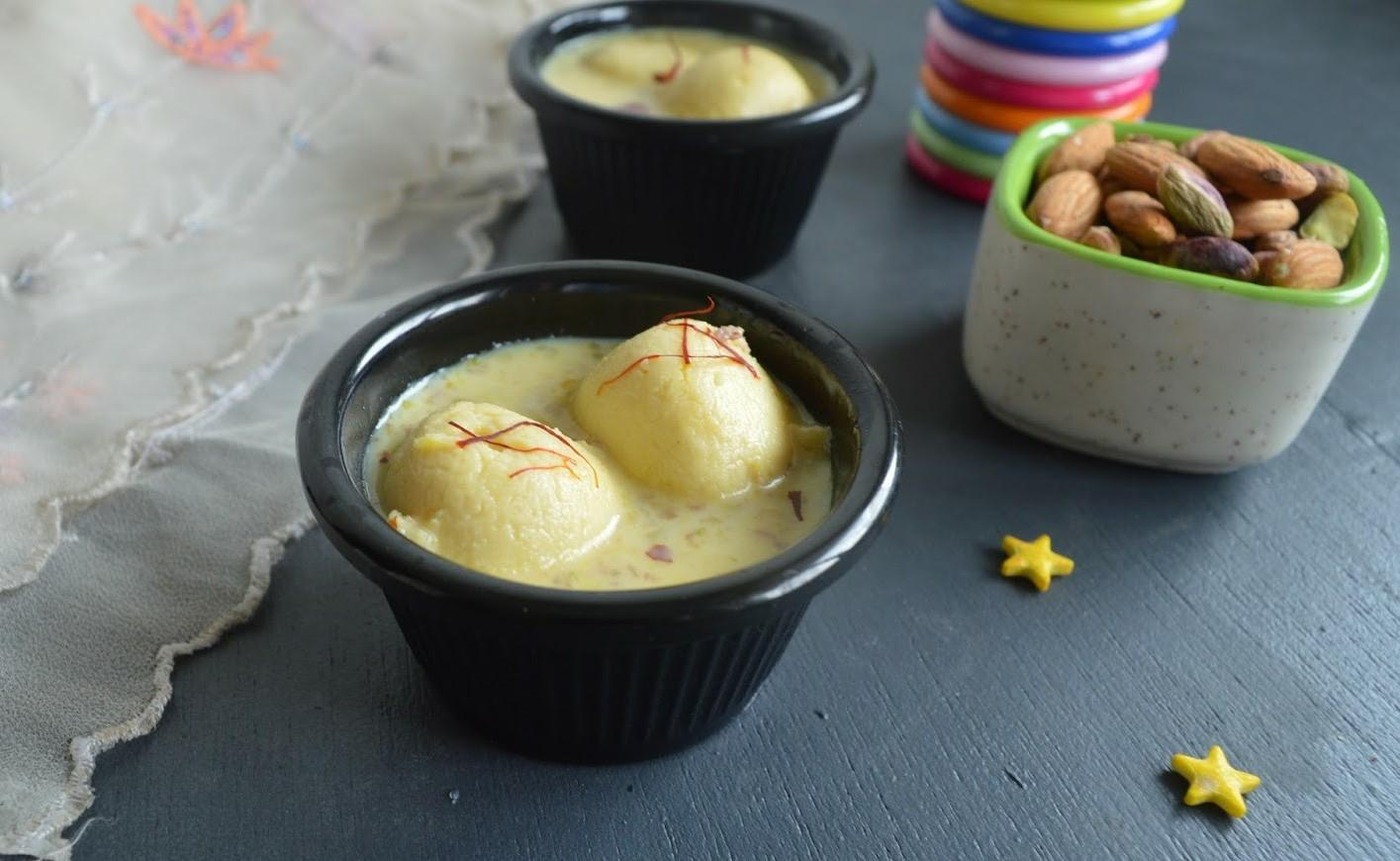RasMalai: (362, 310, 835, 588), (546, 22, 832, 117)
